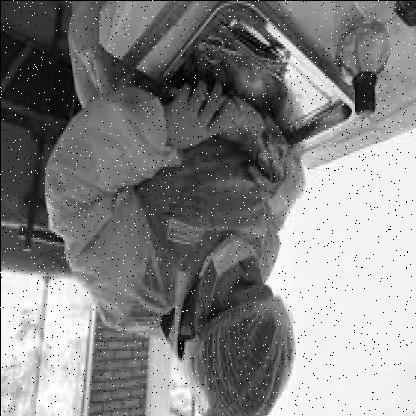fish: (158, 82, 285, 184)
